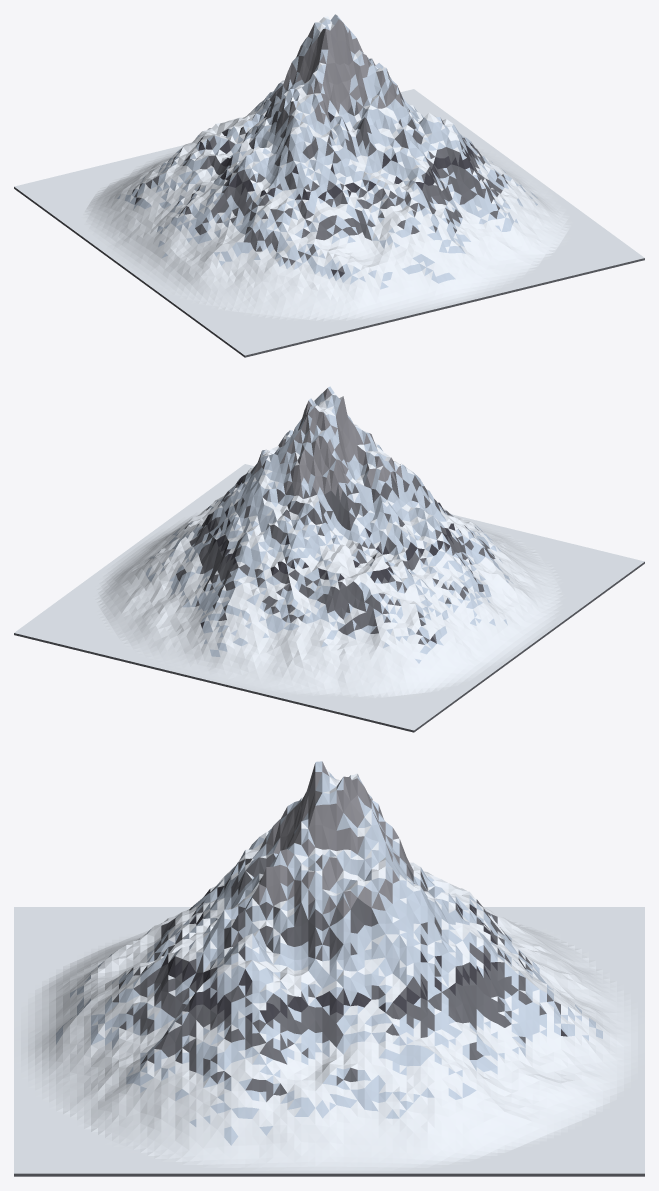
File: mountain_peak.obj
3 renders of one model, top to bottom at view 1: azimuth 30°, elevation 25°; view 2: azimuth 150°, elevation 25°; view 3: azimuth 270°, elevation 25°, orthographic. The views are drawn at different scales.
Parts seen in each view (by area): view 1: mountain_peak; view 2: mountain_peak; view 3: mountain_peak.
Part boxes in pixels (box(x1,y1,x2,y2)): mountain_peak: box(14, 14, 644, 357); mountain_peak: box(14, 386, 644, 732); mountain_peak: box(14, 761, 644, 1176).
Size of the model in its own units: 600 by 299 by 600.
1 material, 1 textured.
